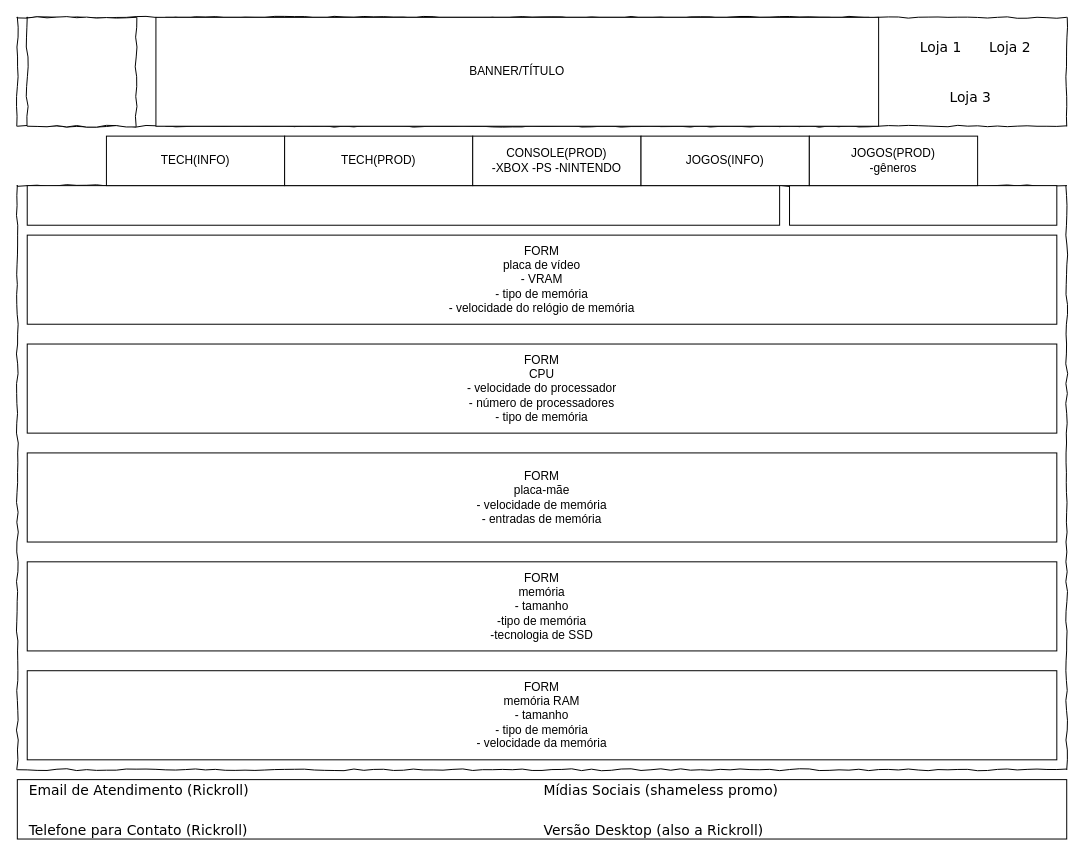
The diagram is 1084 pixels wide and 856 high, and some of its shapes have lost their labels. Each missing label, with the centre of its shape:
Descrição do formulário, como está fazendo uma enquete.: point (403, 205)
Explicação sobre como power e case já estão hipoteticamente decididos.: point (923, 205)
LOGO: point (81, 71)
